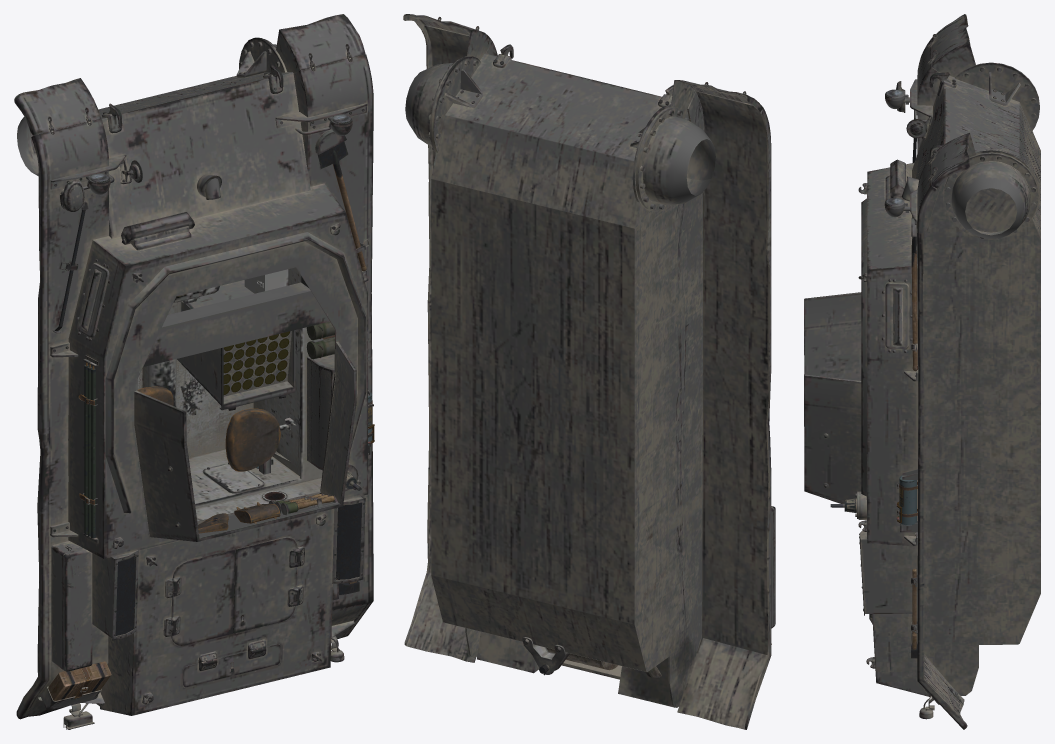
The model's file is Hull.glb.
The picture shows the model from 3 angles, left to right: view 1: azimuth 30°, elevation 25°; view 2: azimuth 150°, elevation 25°; view 3: azimuth 270°, elevation 25°; orthographic projection. The views are drawn at different scales.
Parts seen in each view (by area): view 1: set_0_group_0; view 2: set_0_group_0; view 3: set_0_group_0.
Part boxes in pixels (x1,y1,x2,y2): set_0_group_0: (14, 14, 374, 729); set_0_group_0: (403, 14, 775, 729); set_0_group_0: (804, 14, 1040, 729).
Size of the model in its own units: 2.41 by 4.28 by 1.6.
Materials: 1 (1 with a texture image).
